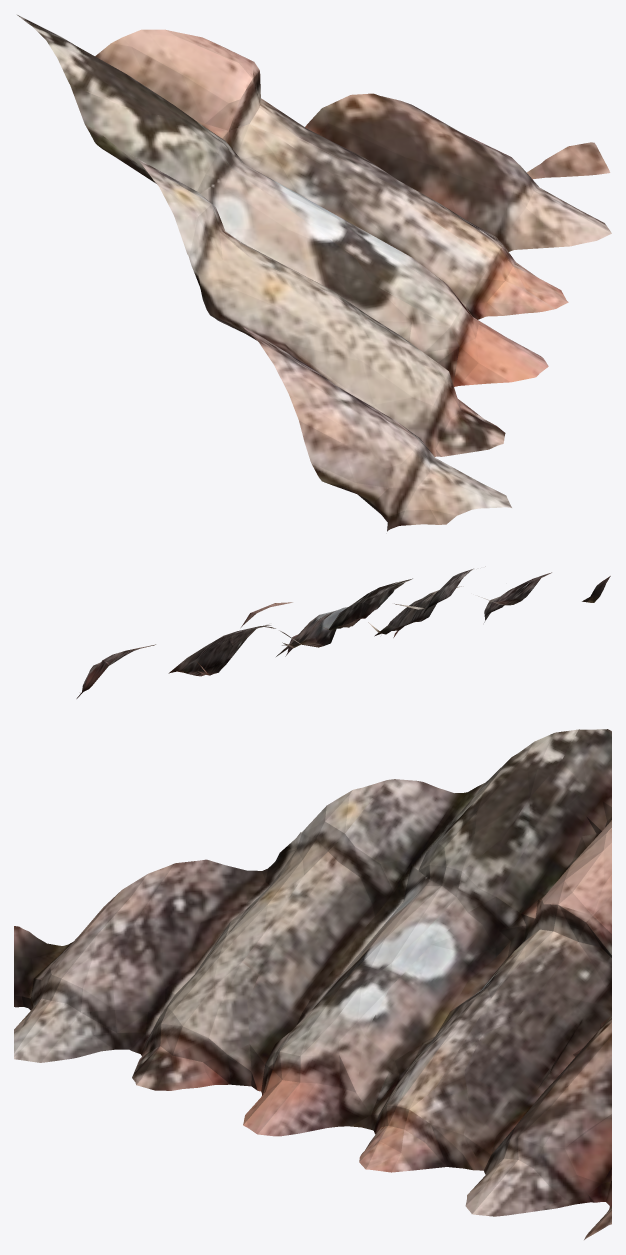
3 views of the same model, one above another, from view 1: azimuth 30°, elevation 25°; view 2: azimuth 150°, elevation 25°; view 3: azimuth 270°, elevation 25° (orthographic). The views are drawn at different scales.
Bounding box in the file's own units: 0.8373 × 0.4002 × 0.8374.
Materials: 2 (2 with a texture image).
